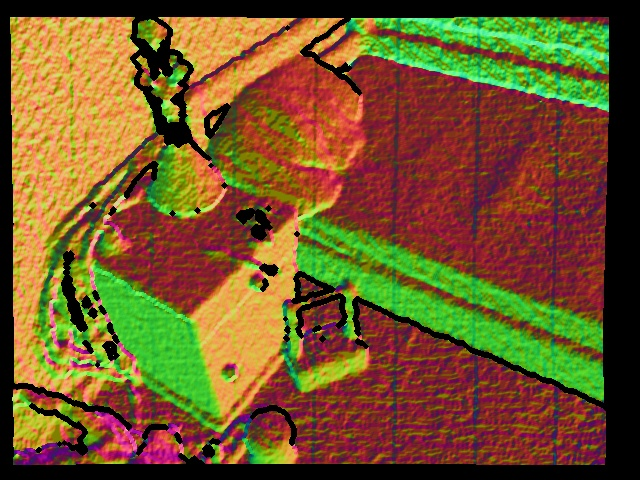station: (284, 281, 371, 394)
